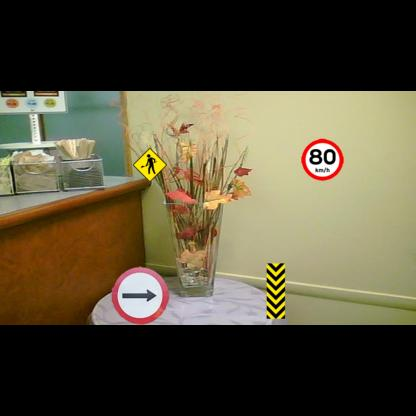A-24: (133, 148, 167, 182)
O-MP: (267, 263, 285, 318)
R-19: (301, 139, 343, 181)
R-24a: (112, 266, 169, 324)
